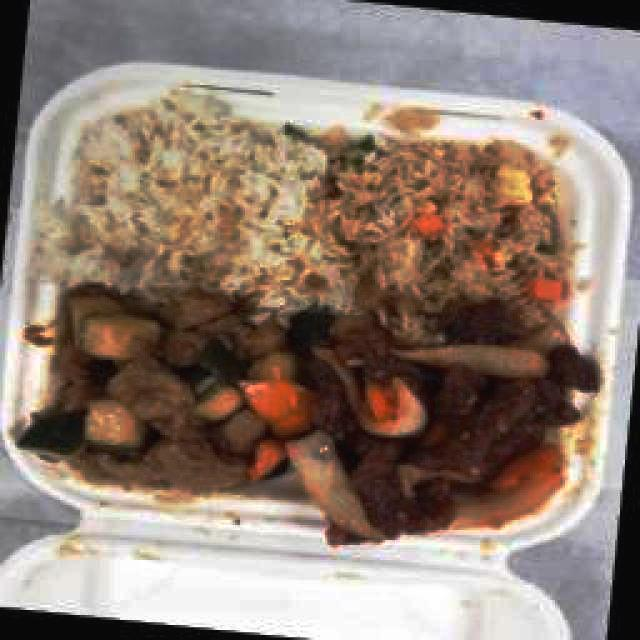Beijing Beef: (297, 325, 566, 537)
Fried Rice: (329, 146, 556, 315)
Kung Pao Chicken: (49, 293, 325, 482)
rice: (75, 110, 322, 282)
